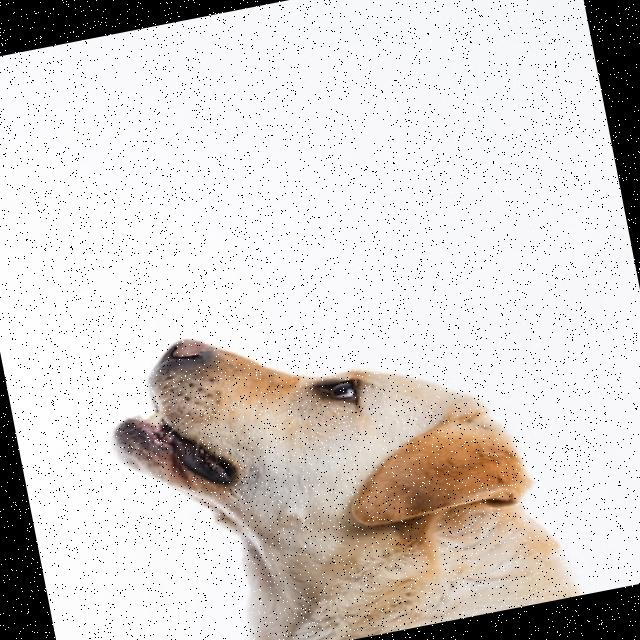Dog: (93, 274, 581, 640)
